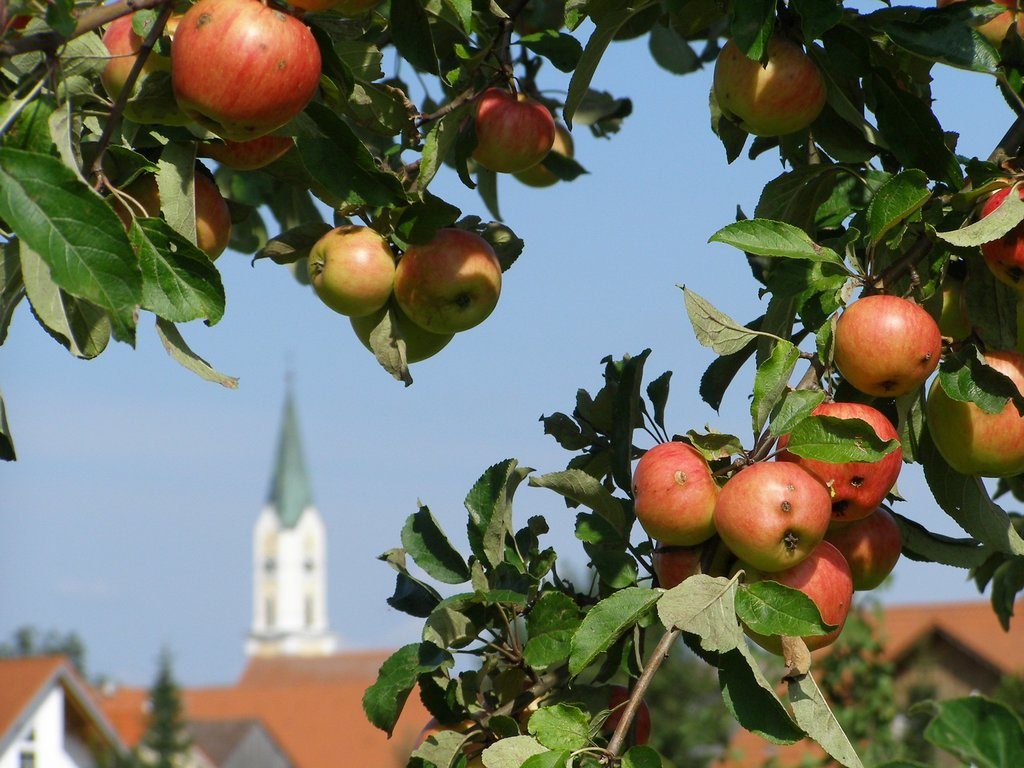Apple: (628, 291, 1023, 655), (163, 0, 316, 129), (711, 28, 826, 143), (110, 156, 234, 261), (392, 227, 504, 333), (101, 8, 188, 128), (307, 225, 395, 324), (458, 90, 556, 176), (977, 183, 1023, 293), (192, 127, 293, 173), (515, 120, 576, 192), (935, 0, 1023, 46), (410, 720, 496, 767), (607, 686, 654, 748), (0, 0, 32, 32)
